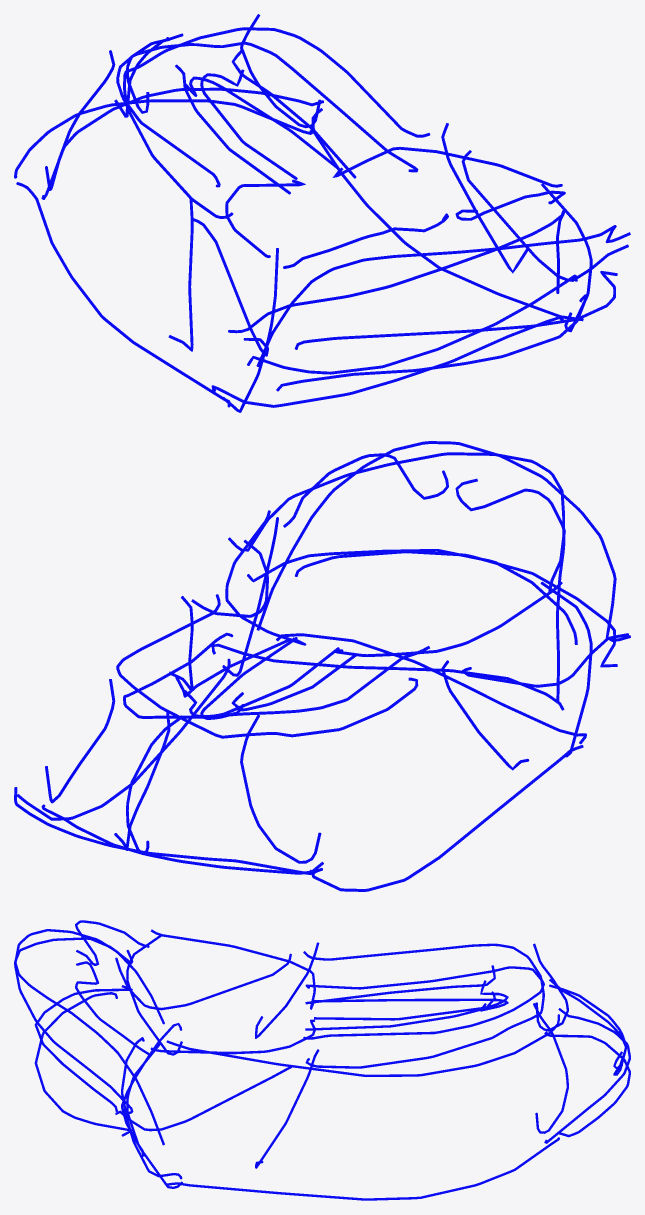
Rendered from cassie_p11_shoe.glb.
The picture shows the model from 3 angles, top to bottom: view 1: azimuth 30°, elevation 25°; view 2: azimuth 150°, elevation 25°; view 3: azimuth 270°, elevation 25°; orthographic projection. The views are drawn at different scales.
Parts seen in each view (by area): view 1: cassie_p11_shoe; view 2: cassie_p11_shoe; view 3: cassie_p11_shoe.
Part boxes in pixels (box(x1,y1,x2,y2)): cassie_p11_shoe: box(14, 14, 630, 412); cassie_p11_shoe: box(14, 441, 630, 891); cassie_p11_shoe: box(14, 920, 630, 1200).
Size of the model in its own units: 0.6265 by 0.3304 by 1.
